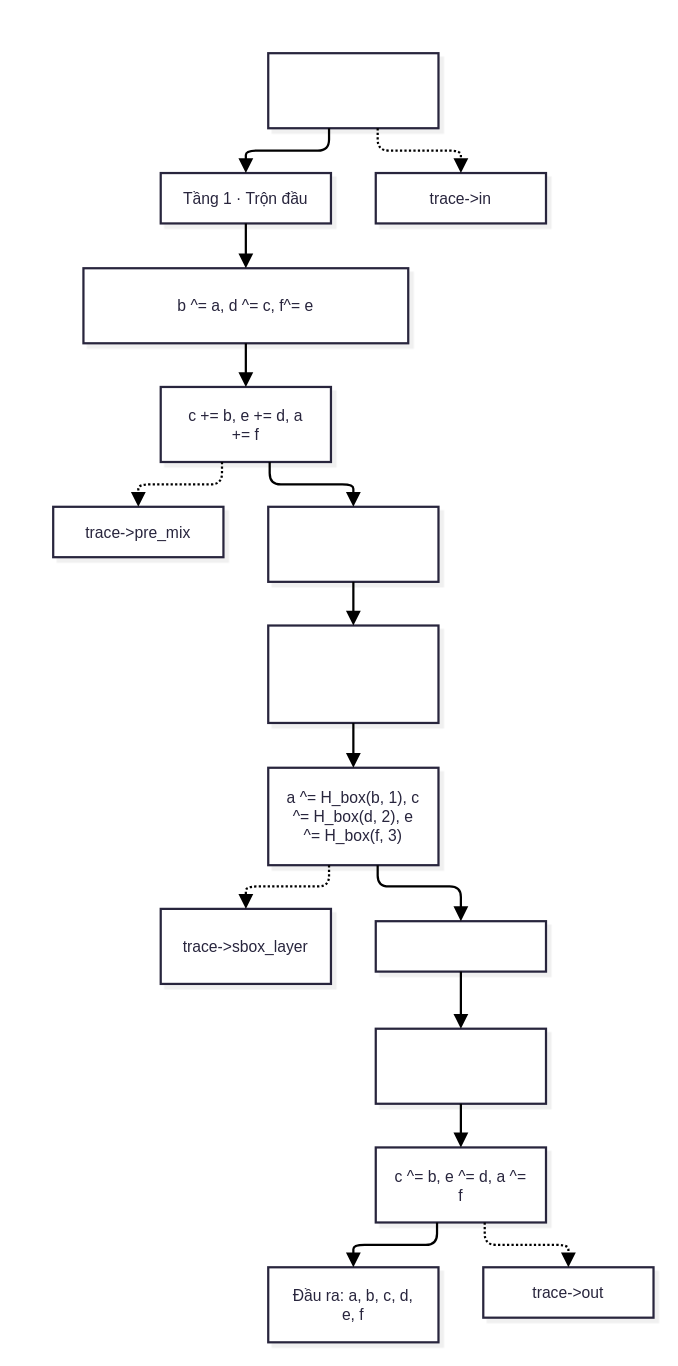
This 678x1366 diagram has some shape labels left out. The centre of each missing label's shape, as x and y in pixels:
"d += a, f += c, b += e" goes at point 462,1068.
"d ^= G_box(a, 1), f ^= G_box(c, 2), b ^= G_box(e, 3)" goes at point 355,676.
"Tầng 2 · Biến đổi phi tuyến" goes at point 355,546.
"Tầng 3 · Trộn cuối" goes at point 462,948.
"Đầu vào: a, b, c, d, e, f" goes at point 355,92.
